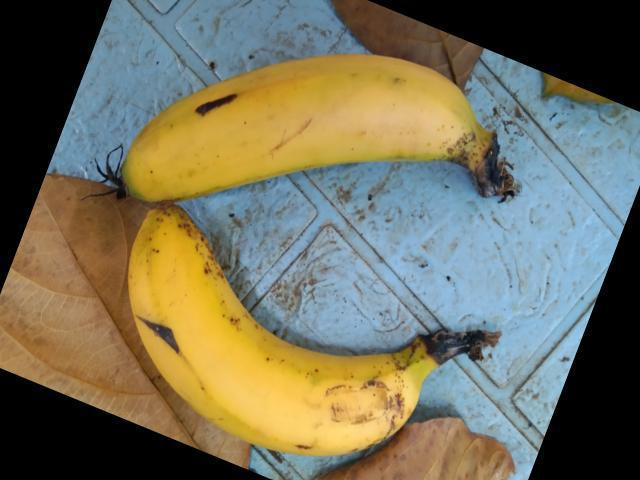freshripe: (86, 29, 467, 185)
ripe: (111, 207, 409, 479)
